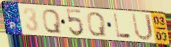3: (23, 7, 40, 33)
5: (66, 8, 85, 37)
L: (113, 13, 133, 40)
Q: (86, 11, 108, 38), (41, 9, 63, 35)
U: (131, 12, 155, 42)
